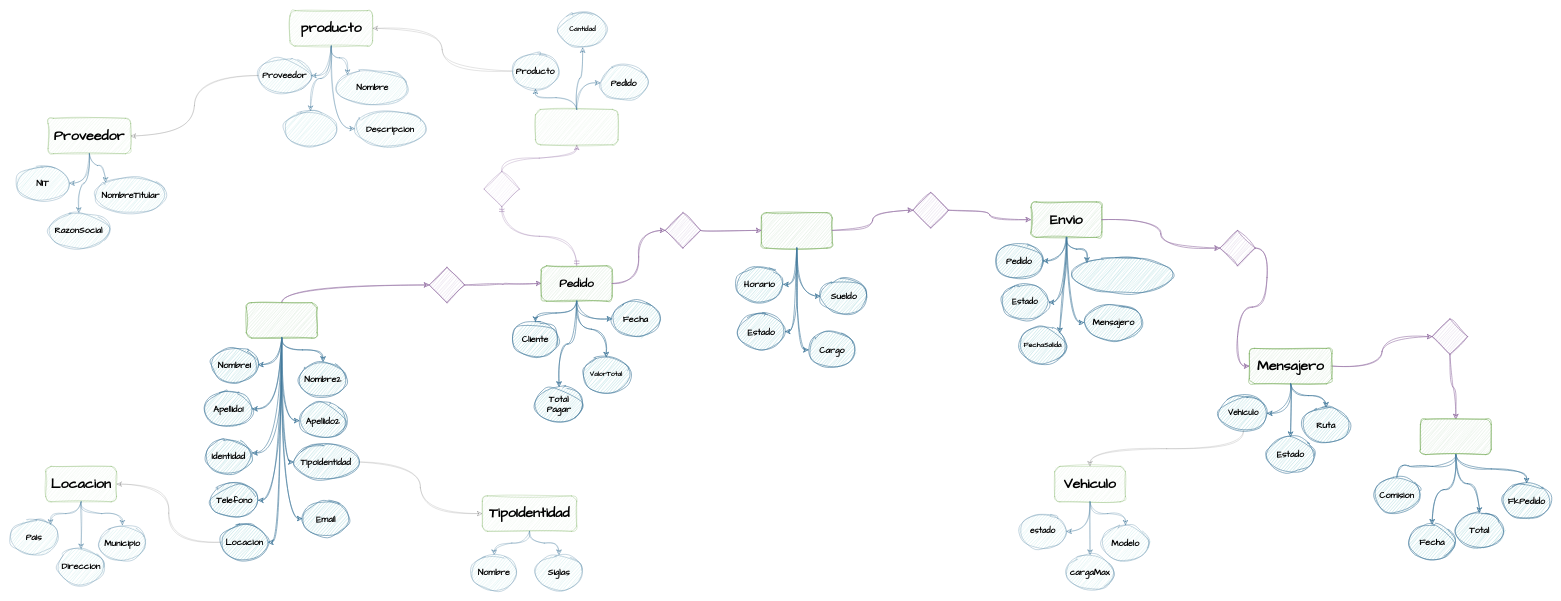
The diagram is 1561 pixels wide and 601 high, and some of its shapes have lost their labels. Here are the shapes that lost their labels. From the top down, the centre of each, then its label:
At (x=310, y=128): "stock".
At (x=576, y=127): "DetallePedido".
At (x=501, y=189): "contiene".
At (x=683, y=230): "atiende".
At (x=796, y=230): "Operador".
At (x=930, y=210): "reporta".
At (x=1237, y=248): "procesa".
At (x=447, y=285): "solicita".
At (x=1122, y=275): "OperadorReporte".
At (x=281, y=320): "Persona".
At (x=1450, y=336): "Genera".
At (x=1455, y=437): "Factura".
